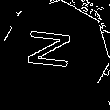N_E: (28, 33, 82, 77)
